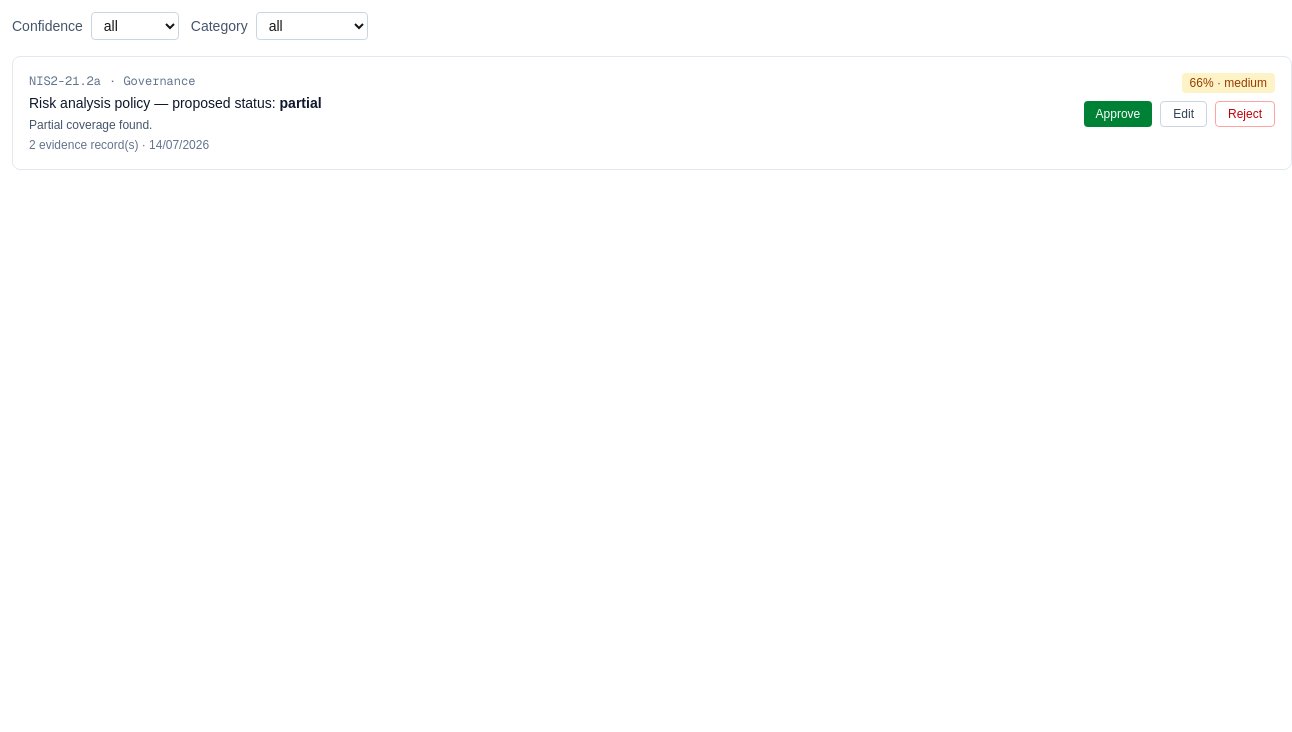
Scenario: RecommendationList › a 409 on a submitted Edit closes that row's form
The image size is (1292, 732).
Click the button "Edit" at (1184, 114), box x1=1160 y1=101 x2=1207 y2=127
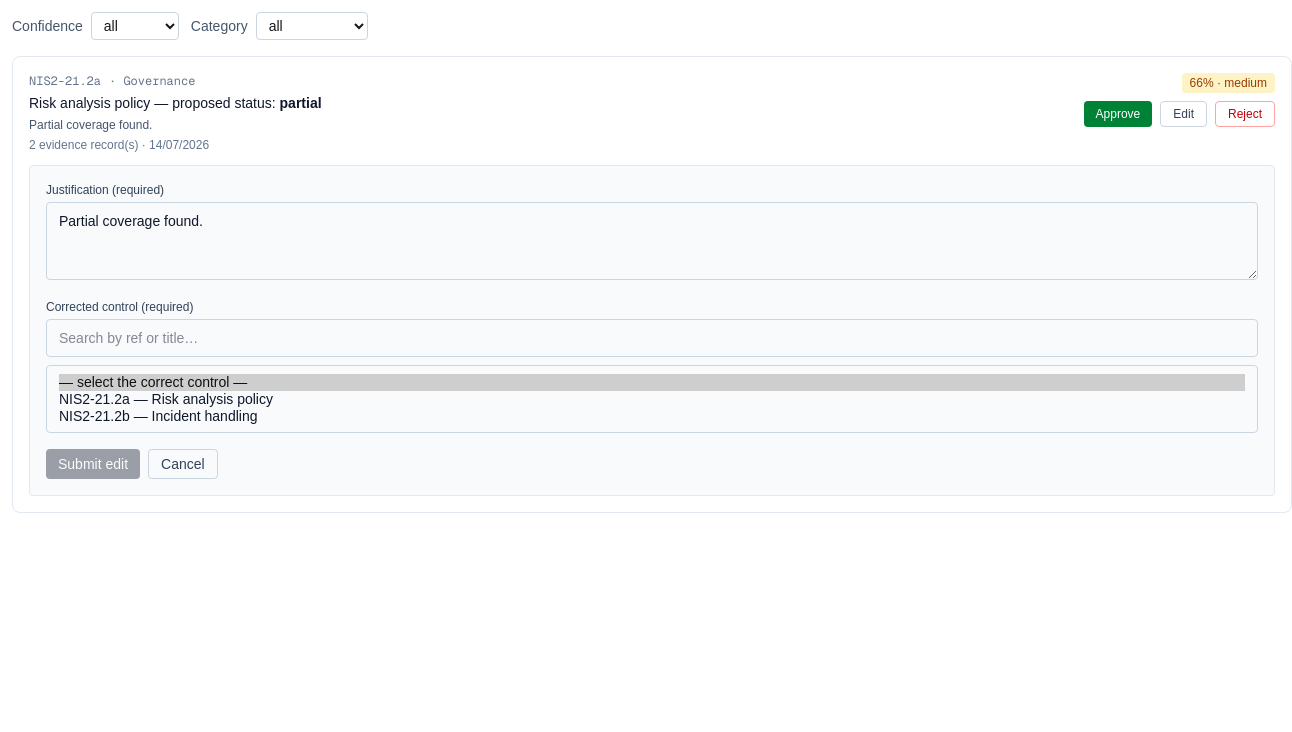
Select "NIS2-21.2b — Incident handling" in the dropdown named "Corrected control" at (652, 399), box x1=46 y1=365 x2=1258 y2=433
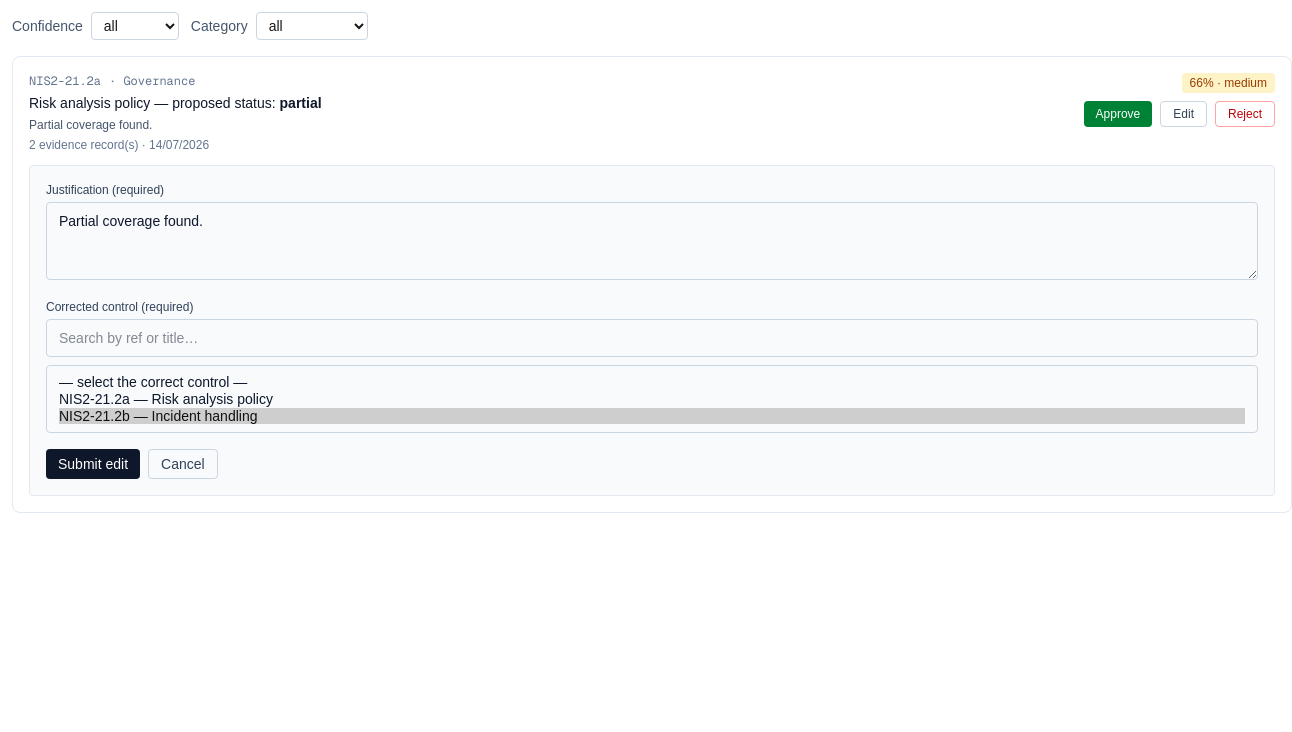
Click the button "Submit edit" at (93, 464), box x1=46 y1=449 x2=140 y2=479
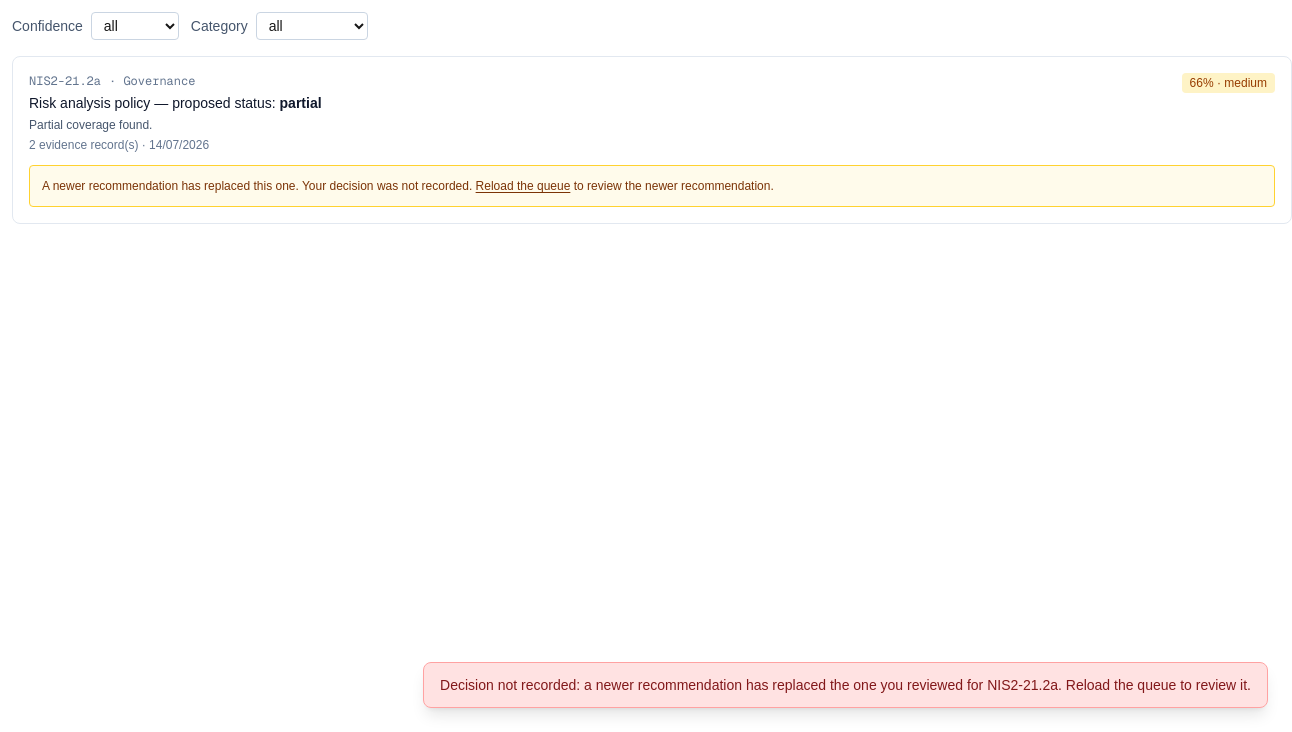
Expected: the text "A newer recommendation has replaced this one" is shown, x1=42 y1=179 x2=472 y2=193
Expected: the text labelled "Justification" is gone
Expected: the text labelled "Corrected control" is gone
